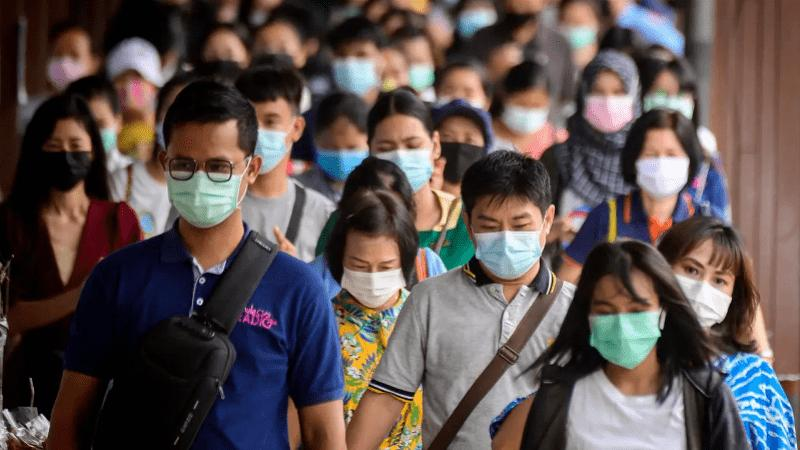mask: (168, 106, 249, 229), (585, 258, 664, 366), (470, 185, 549, 287), (342, 225, 404, 315), (633, 119, 695, 204)
